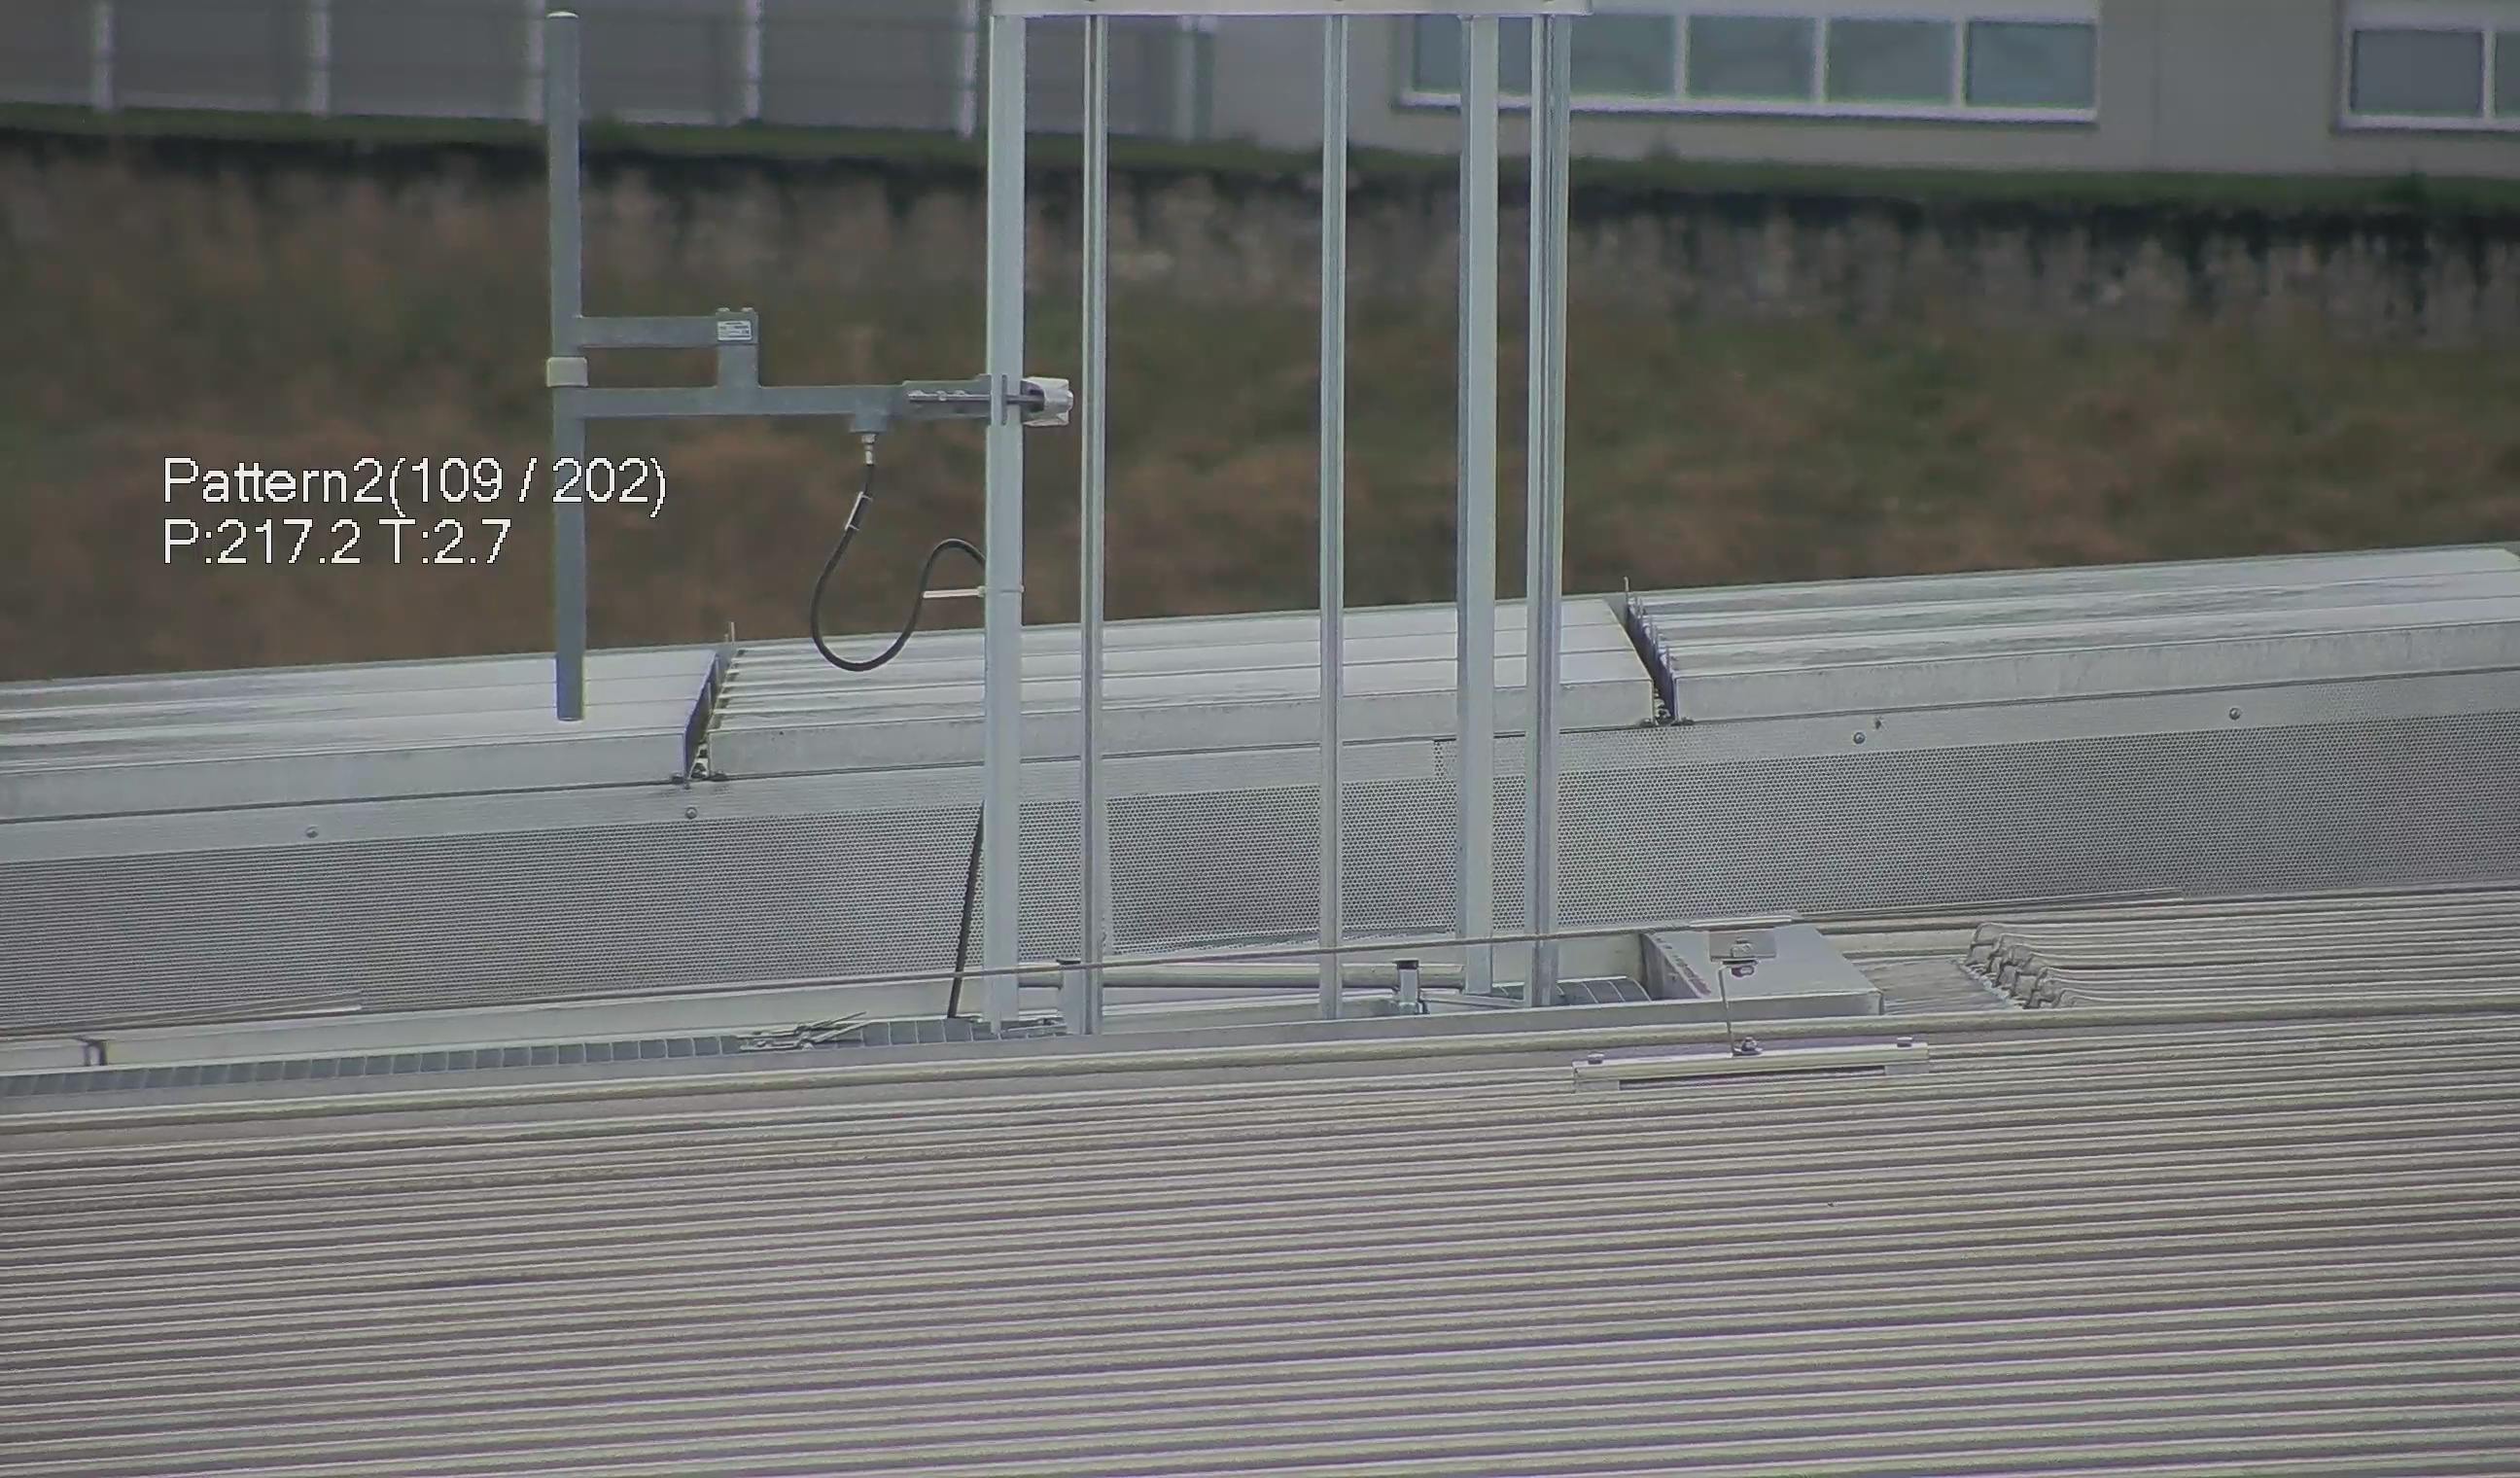Other: (1607, 577, 1695, 734)
